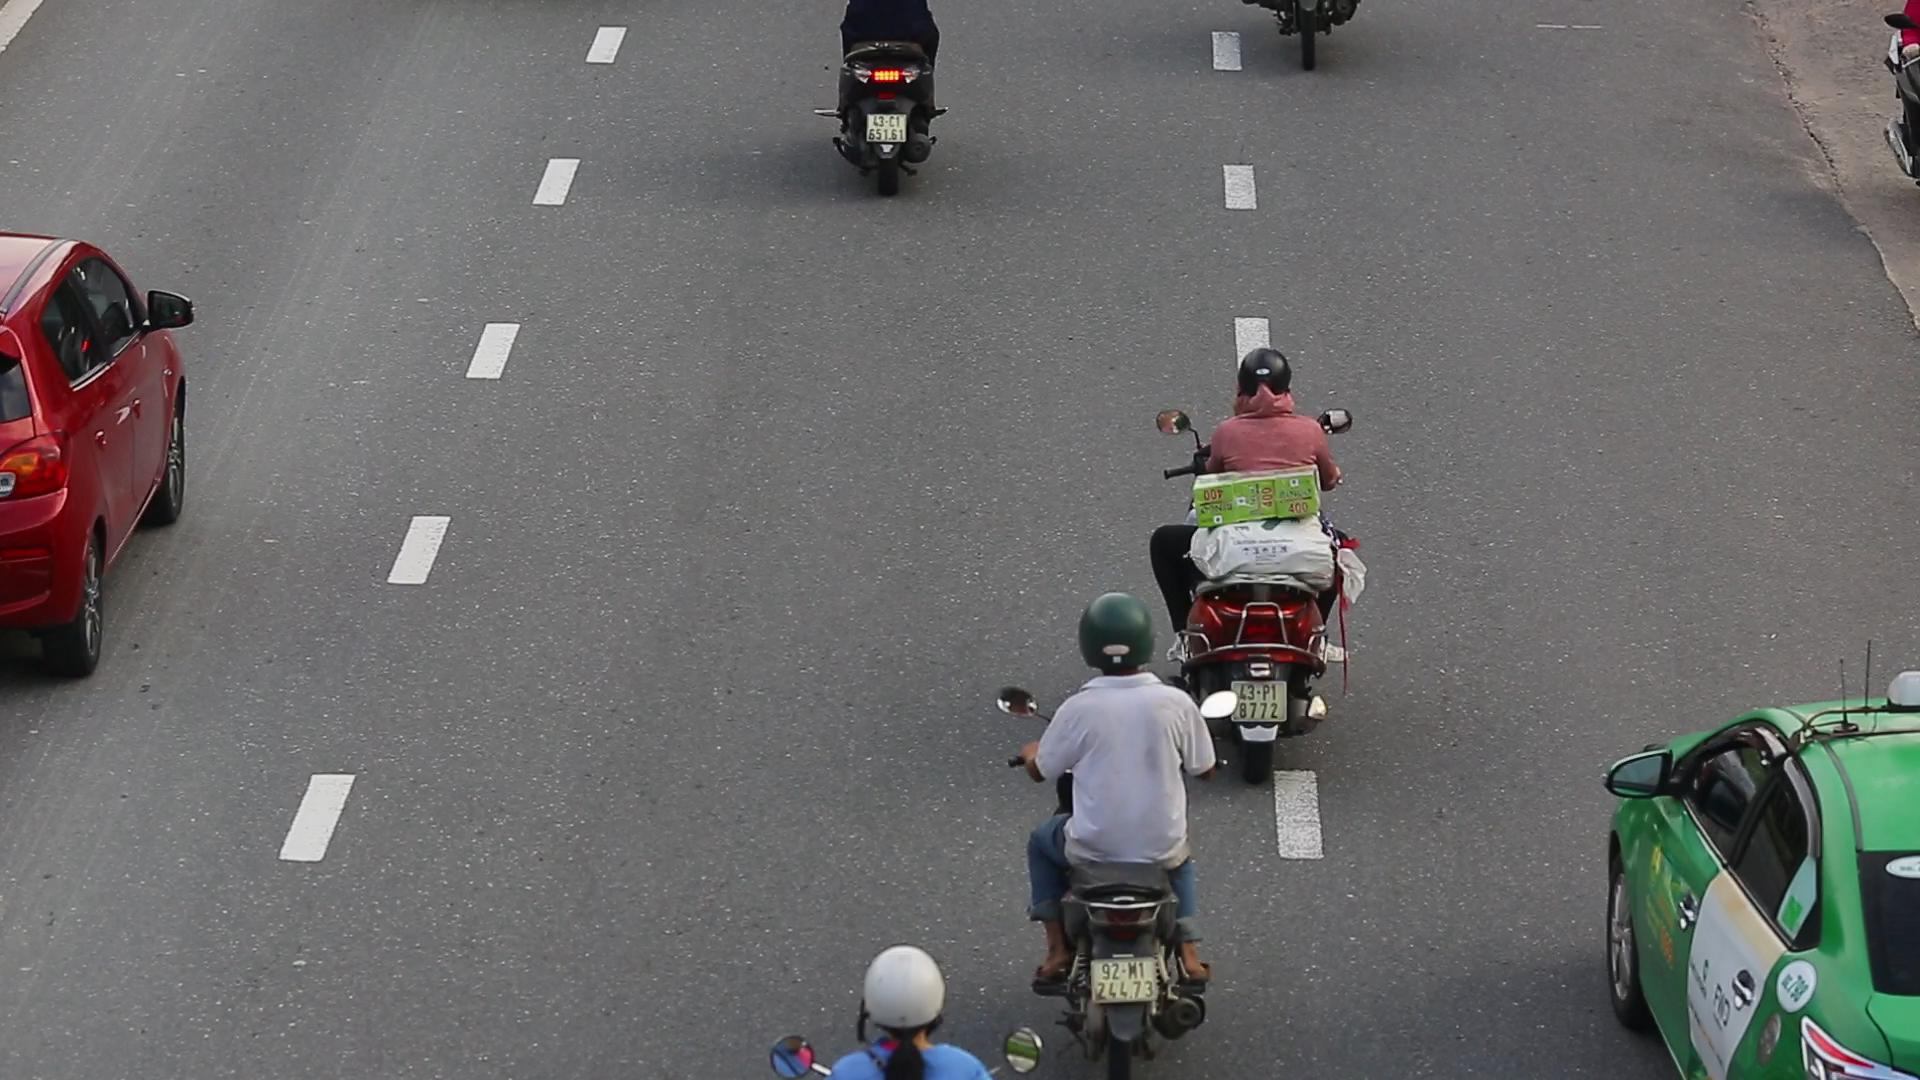motobike: (990, 580, 1236, 1076), (1154, 343, 1367, 781)
